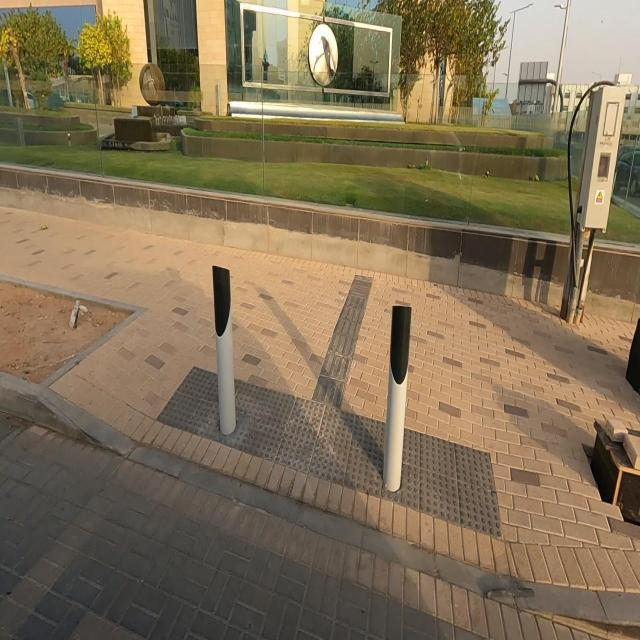debris: (45, 257, 110, 372)
